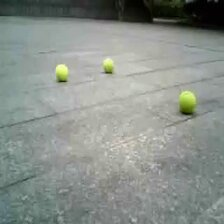tennis: (177, 90, 196, 112), (55, 64, 68, 81), (102, 59, 115, 73)
